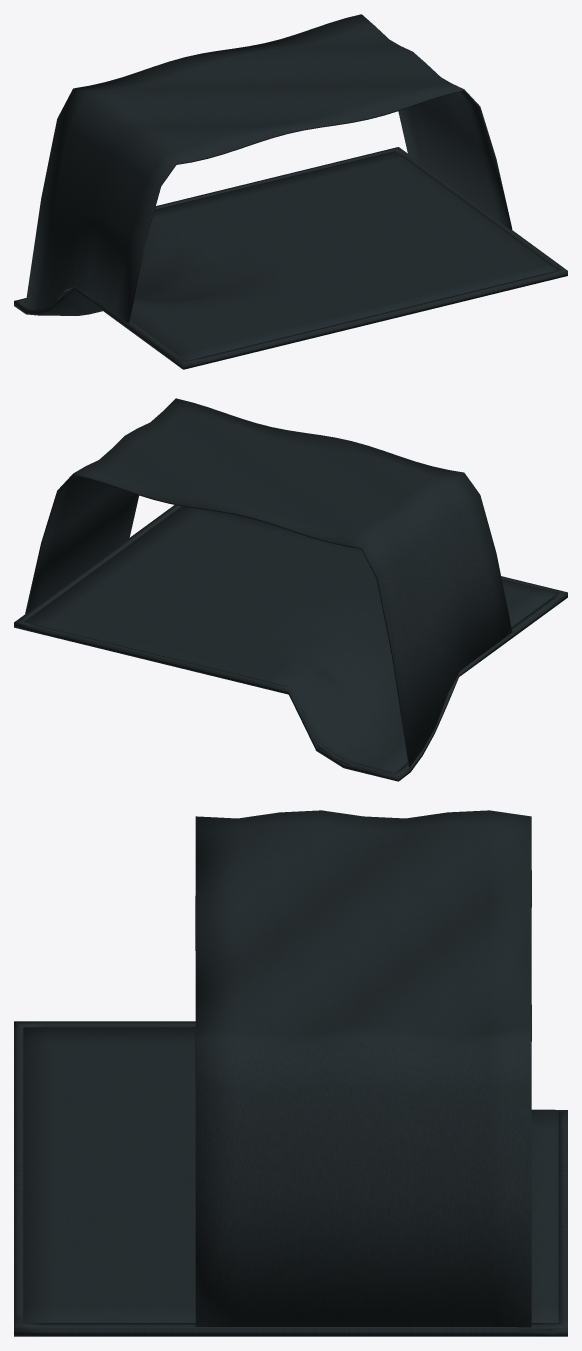
The model's file is KD1_Pad.fbx.
The picture shows the model from 3 angles, top to bottom: view 1: azimuth 30°, elevation 25°; view 2: azimuth 150°, elevation 25°; view 3: azimuth 270°, elevation 25°; orthographic projection. The views are drawn at different scales.
Parts seen in each view (by area): view 1: Part_HandSleeve_Fitted, Part_PadContact_Fitted, Part_EdgeBinding_Fitted; view 2: Part_HandSleeve_Fitted, Part_PadContact_Fitted, Part_EdgeBinding_Fitted; view 3: Part_HandSleeve_Fitted, Part_PadContact_Fitted, Part_EdgeBinding_Fitted.
Part boxes in pixels (x1,y1,x2,y2): Part_HandSleeve_Fitted: (25,14,512,323); Part_PadContact_Fitted: (14,151,567,369); Part_EdgeBinding_Fitted: (14,147,567,365); Part_HandSleeve_Fitted: (25,398,512,767); Part_PadContact_Fitted: (14,506,567,781); Part_EdgeBinding_Fitted: (14,505,567,776); Part_HandSleeve_Fitted: (195,810,531,1327); Part_PadContact_Fitted: (14,1027,567,1336); Part_EdgeBinding_Fitted: (14,1021,567,1330).
Bounding box in the file's own units: 0.16 × 0.0867 × 0.122.
Materials: 2 (2 with a texture image).
